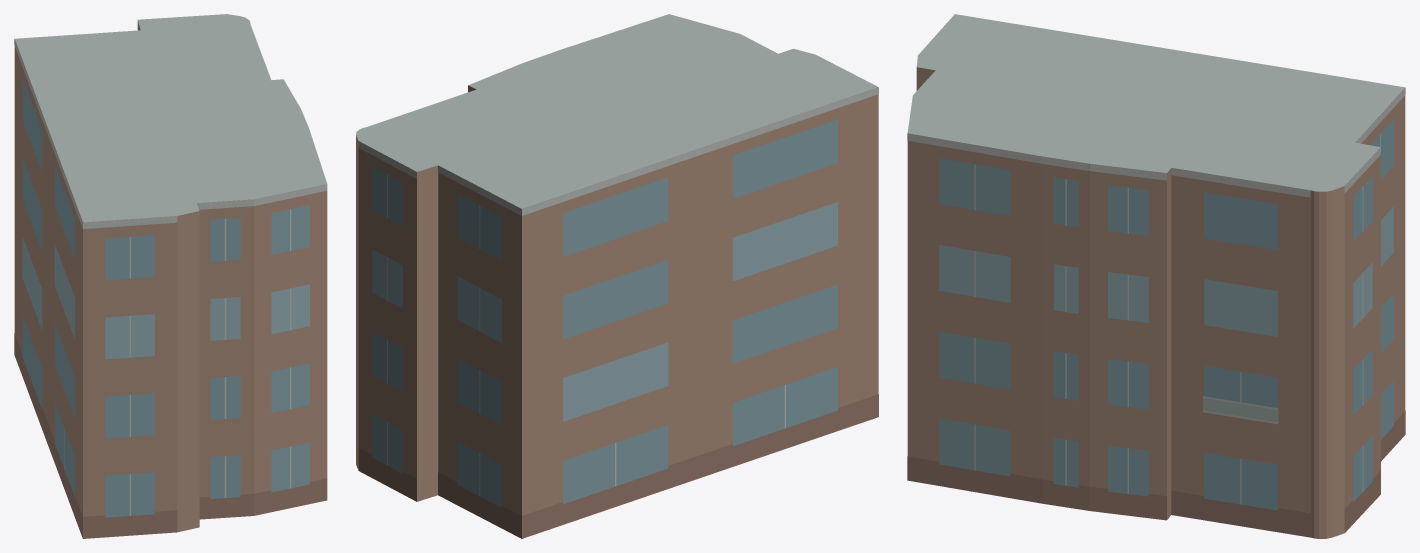
File: survey-upis-32473830.glb
The picture shows the model from 3 angles, left to right: view 1: azimuth 30°, elevation 25°; view 2: azimuth 150°, elevation 25°; view 3: azimuth 270°, elevation 25°; orthographic projection. The views are drawn at different scales.
Parts seen in each view (by area): view 1: survey-upis-32473830.tmp; view 2: survey-upis-32473830.tmp; view 3: survey-upis-32473830.tmp.
Part boxes in pixels (x1=…): survey-upis-32473830.tmp: x1=14, y1=14, x2=327, y2=538; survey-upis-32473830.tmp: x1=356, y1=14, x2=878, y2=538; survey-upis-32473830.tmp: x1=907, y1=14, x2=1405, y2=538.
Bounding box in the file's own units: 12.58 × 11.45 × 14.89.
